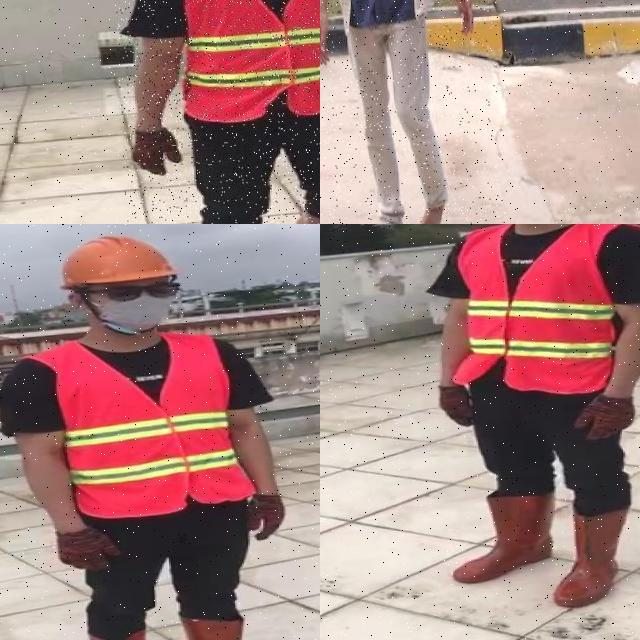boots: (449, 493, 556, 584), (548, 509, 633, 609), (178, 610, 290, 640)
helmet: (48, 229, 177, 292)
vest: (55, 334, 252, 518), (445, 224, 630, 401), (174, 0, 320, 123)
